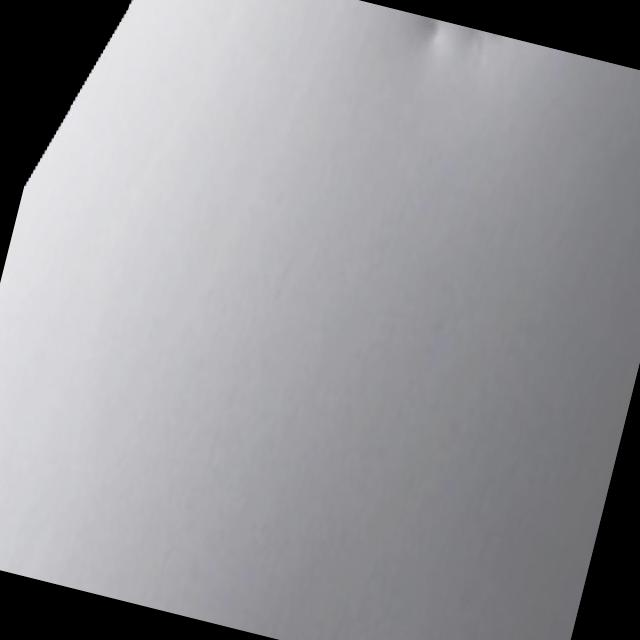dent: (402, 16, 482, 84)
